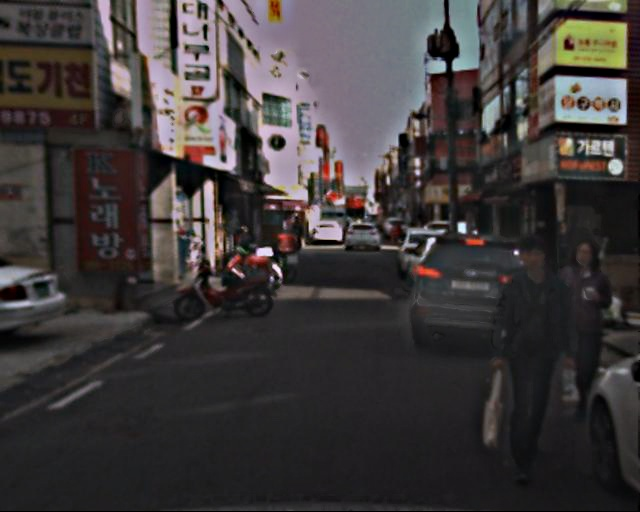person: (478, 237, 578, 480), (559, 233, 620, 431), (290, 216, 306, 255), (390, 222, 405, 244)
